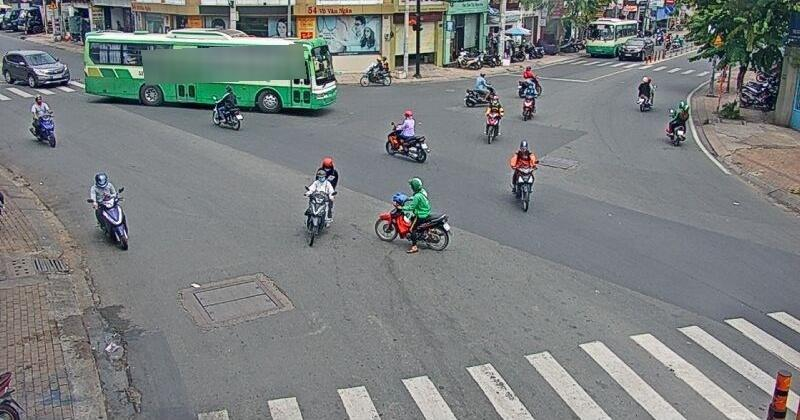xe buyt: (83, 28, 336, 108)
xe may: (373, 177, 451, 251), (85, 172, 129, 249), (303, 158, 338, 245), (385, 110, 428, 162), (510, 139, 539, 212), (28, 94, 56, 148), (211, 85, 244, 130), (465, 72, 497, 106), (359, 57, 392, 87), (484, 95, 504, 144), (668, 101, 690, 145), (636, 76, 655, 112), (522, 83, 536, 119)
